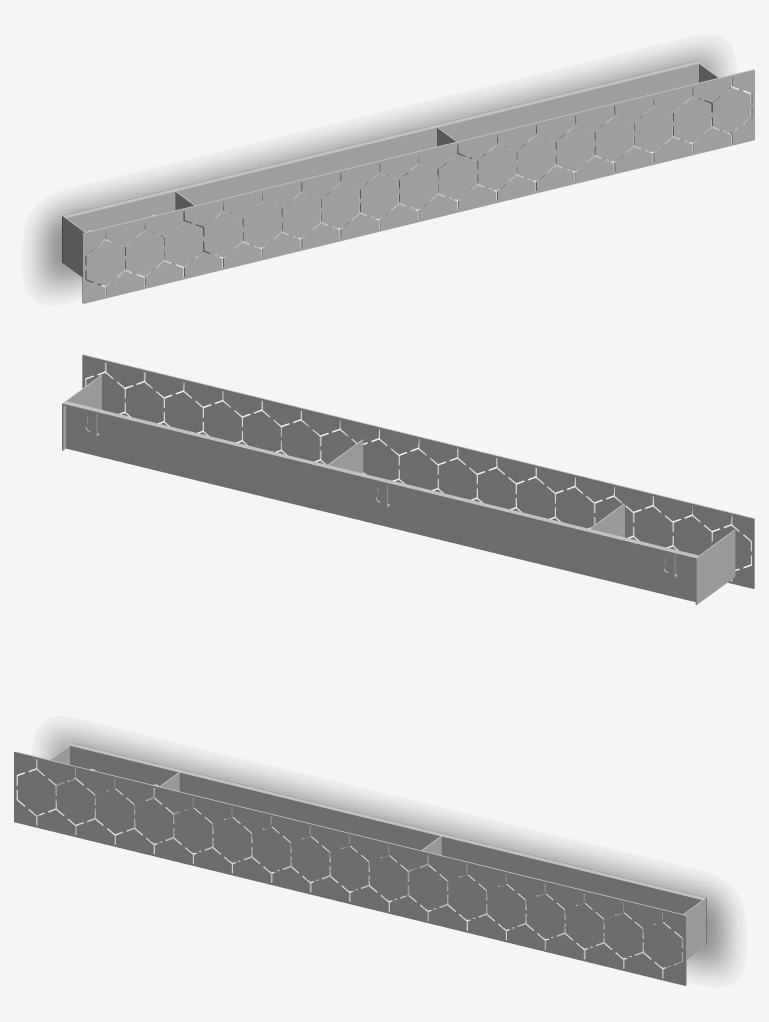
The model's file is bee-patron.df3d2ab90f.ar.glb.
3 renders of one model, top to bottom at view 1: azimuth 30°, elevation 25°; view 2: azimuth 150°, elevation 25°; view 3: azimuth 330°, elevation 25°, orthographic.
Parts seen in each view (by area): view 1: NAUO1, object 2; view 2: NAUO1; view 3: NAUO1, object 2.
Boxes of the visible parts, x1=… form: NAUO1: x1=62, y1=61, x2=754, y2=303; object 2: x1=36, y1=51, x2=722, y2=288; NAUO1: x1=62, y1=354, x2=754, y2=604; NAUO1: x1=14, y1=743, x2=706, y2=985; object 2: x1=46, y1=733, x2=732, y2=970.
Size of the model in its own units: 0.98 by 0.17 by 0.092.
2 materials, 1 textured.
